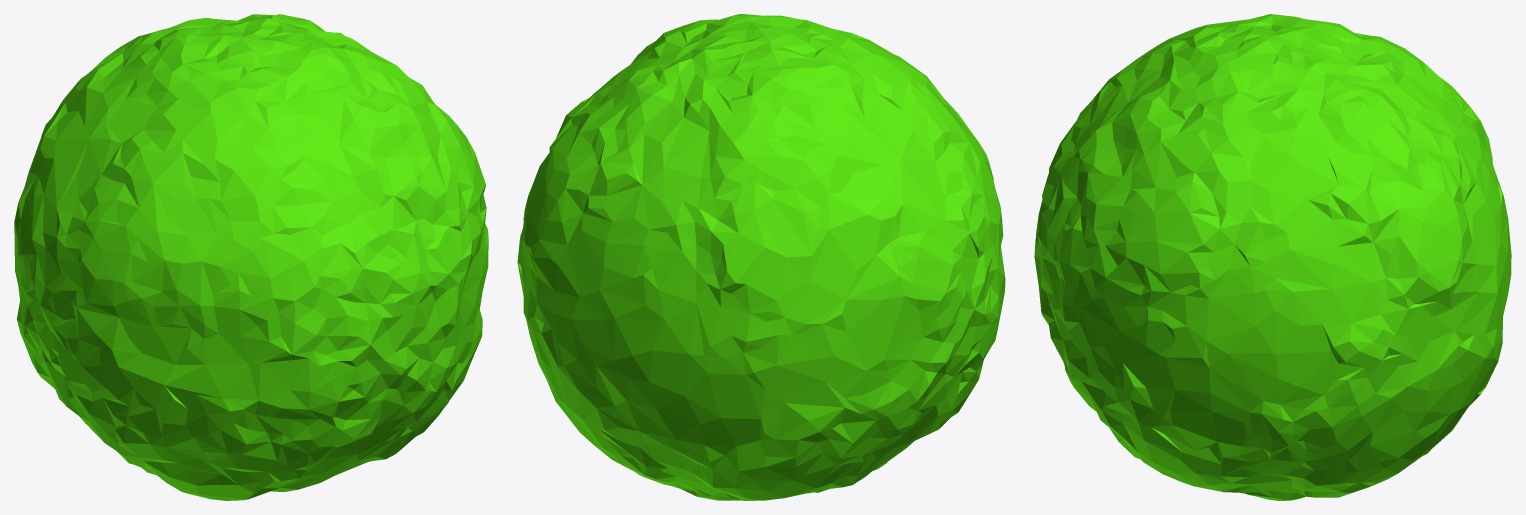
Rendered from planet_05.glb.
3 views of the same model, side by side, from view 1: azimuth 30°, elevation 25°; view 2: azimuth 150°, elevation 25°; view 3: azimuth 270°, elevation 25° (orthographic).
Parts seen in each view (by area): view 1: SM_Env_Planet_05; view 2: SM_Env_Planet_05; view 3: SM_Env_Planet_05.
Boxes of the visible parts, box(x1,y1,x2,y2) form: SM_Env_Planet_05: box(14, 14, 488, 500); SM_Env_Planet_05: box(517, 14, 1005, 500); SM_Env_Planet_05: box(1034, 14, 1511, 500).
Bounding box in the file's own units: 22.38 × 22.34 × 22.37.
